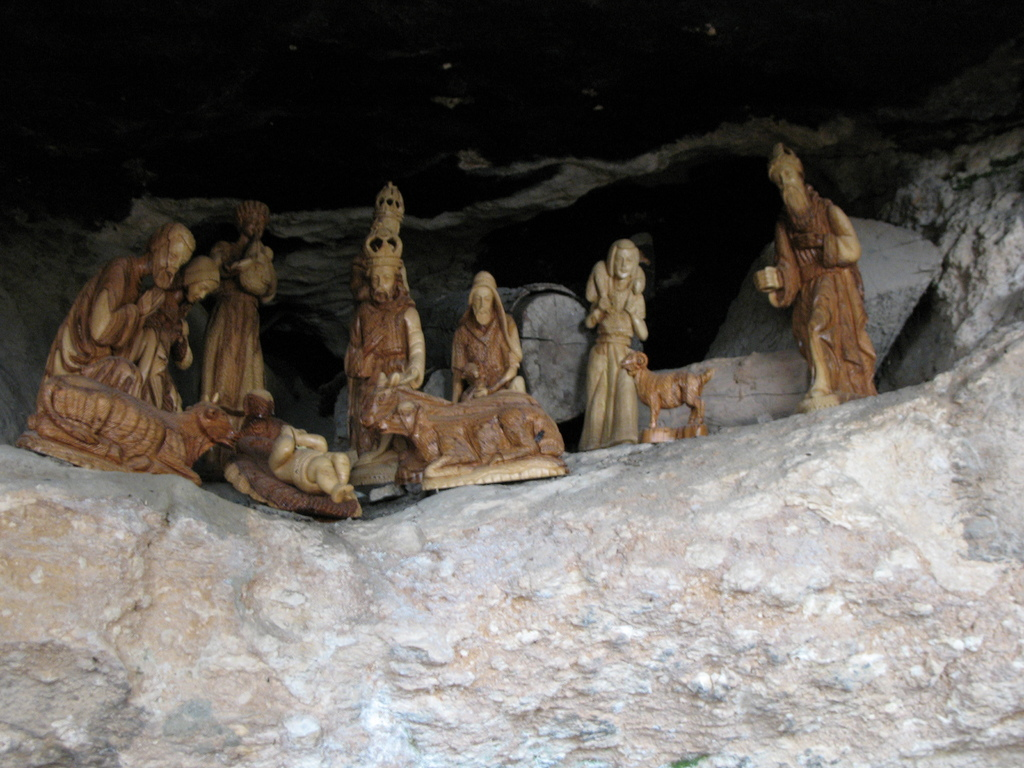Person: (9, 218, 192, 471), (755, 140, 880, 410), (346, 181, 423, 483), (192, 201, 275, 478), (131, 253, 220, 482), (577, 239, 648, 450), (453, 269, 527, 401), (265, 416, 355, 501)
